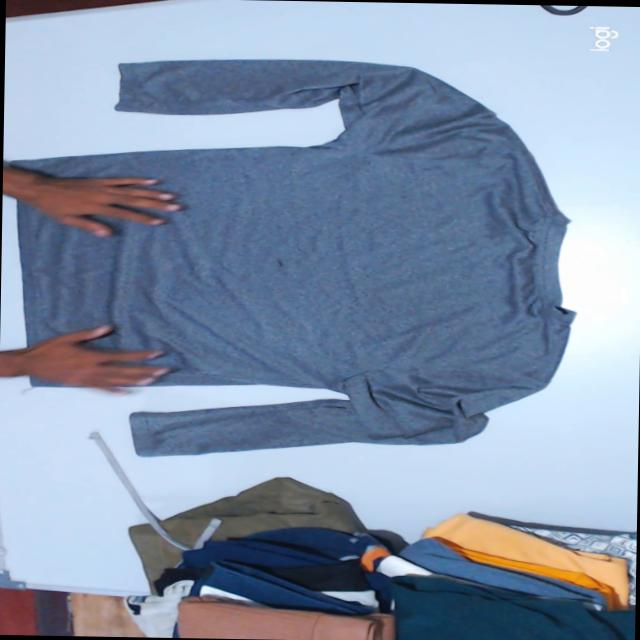new-garment: (16, 59, 572, 454)
